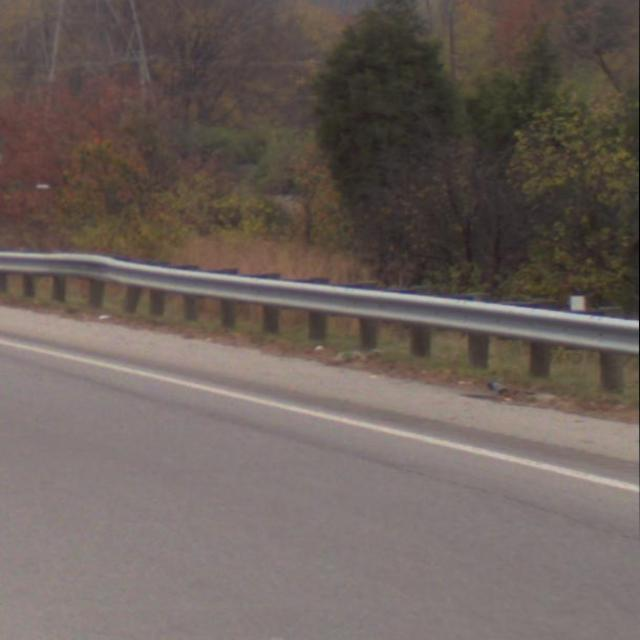Guard rail: (0, 247, 637, 401)
